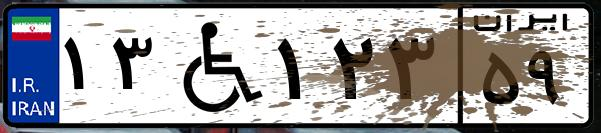1: (270, 28, 330, 110), (57, 26, 110, 100)
2: (330, 28, 385, 110)
3: (385, 28, 445, 110), (110, 28, 158, 98)
5: (475, 38, 525, 113)
9: (525, 38, 570, 115)
ژ (معلولین و جانبازان): (158, 12, 270, 120)
